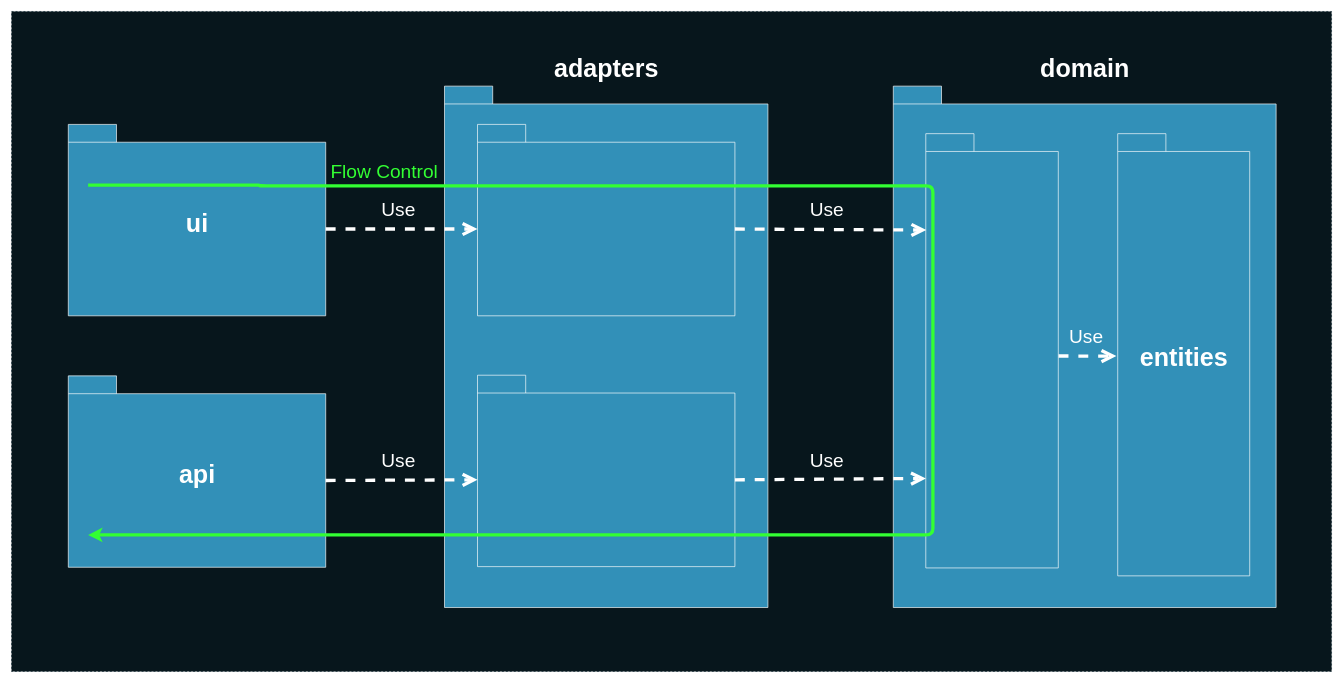
The diagram is 1343 pixels wide and 683 high, and some of its shapes have lost their labels. The shapes that lost their labels are listed below. From the top down, each one's centre as x and y in pixels, then its label:
At point (606, 220): "presenters".
At point (991, 350): "usecases".
At point (606, 471): "gateways".
